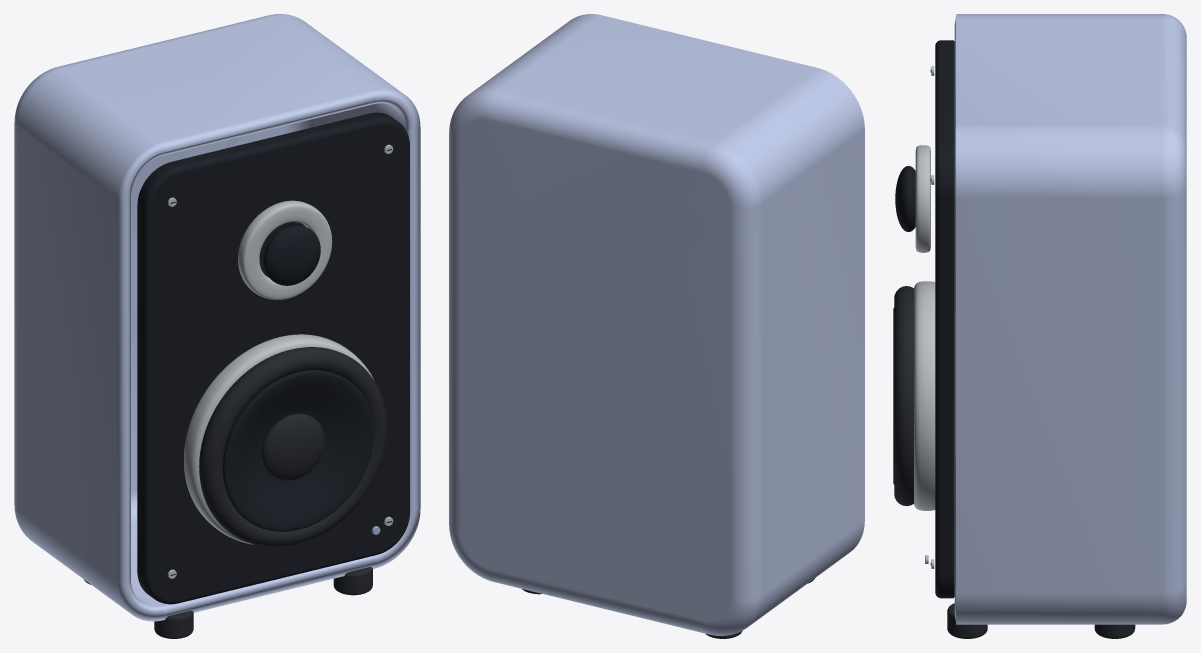
Rendered from bookshelf-speaker.glb.
3 renders of one model, left to right at view 1: azimuth 30°, elevation 25°; view 2: azimuth 150°, elevation 25°; view 3: azimuth 270°, elevation 25°, orthographic. The views are drawn at different scales.
Visible parts, largest first — view 1: hollow-rounded-housing, fitted-rounded-panel, continuous-woofer-cone, vibrating-speaker-cone-004, machined-annular-ring (×2), vibrating-speaker-cone-006, tweeter-assembly-008, inset-nonslip-foot (×2); view 2: hollow-rounded-housing; view 3: hollow-rounded-housing, fitted-rounded-panel, machined-annular-ring (×2), vibrating-speaker-cone-004, inset-nonslip-foot (×2), tweeter-assembly-008.
Part boxes in pixels (bbox=[...]): hollow-rounded-housing: bbox=[14, 14, 420, 621]; fitted-rounded-panel: bbox=[137, 112, 409, 604]; continuous-woofer-cone: bbox=[222, 370, 373, 531]; vibrating-speaker-cone-004: bbox=[199, 347, 386, 547]; machined-annular-ring (×2): bbox=[184, 200, 374, 544]; vibrating-speaker-cone-006: bbox=[261, 413, 324, 480]; tweeter-assembly-008: bbox=[263, 225, 320, 285]; inset-nonslip-foot (×2): bbox=[154, 567, 372, 638]; hollow-rounded-housing: bbox=[449, 14, 864, 635]; hollow-rounded-housing: bbox=[954, 14, 1186, 624]; fitted-rounded-panel: bbox=[935, 40, 954, 598]; machined-annular-ring (×2): bbox=[914, 145, 935, 510]; vibrating-speaker-cone-004: bbox=[894, 286, 913, 506]; inset-nonslip-foot (×2): bbox=[947, 603, 1135, 638]; tweeter-assembly-008: bbox=[895, 166, 915, 231].
Size of the model in its own units: 1.27 by 2 by 1.03.
